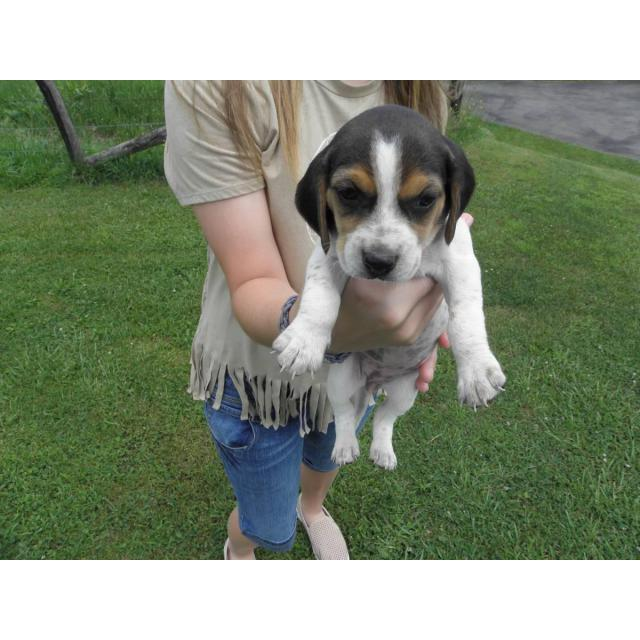dog: (300, 110, 502, 477)
human: (155, 77, 458, 560)
